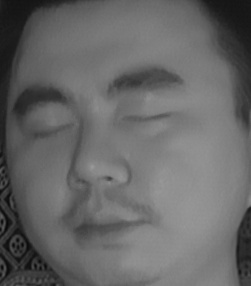blink: (28, 111, 77, 148), (119, 99, 168, 134)
mouth: (63, 197, 153, 250)
